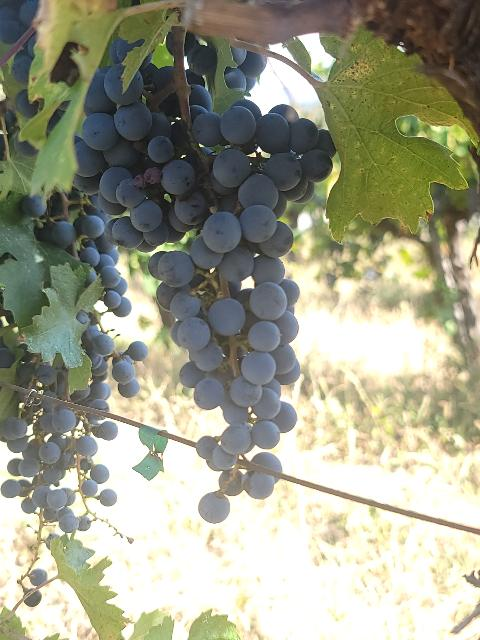grapes: (75, 80, 335, 521), (0, 389, 118, 534), (21, 190, 131, 318), (0, 325, 110, 409)
